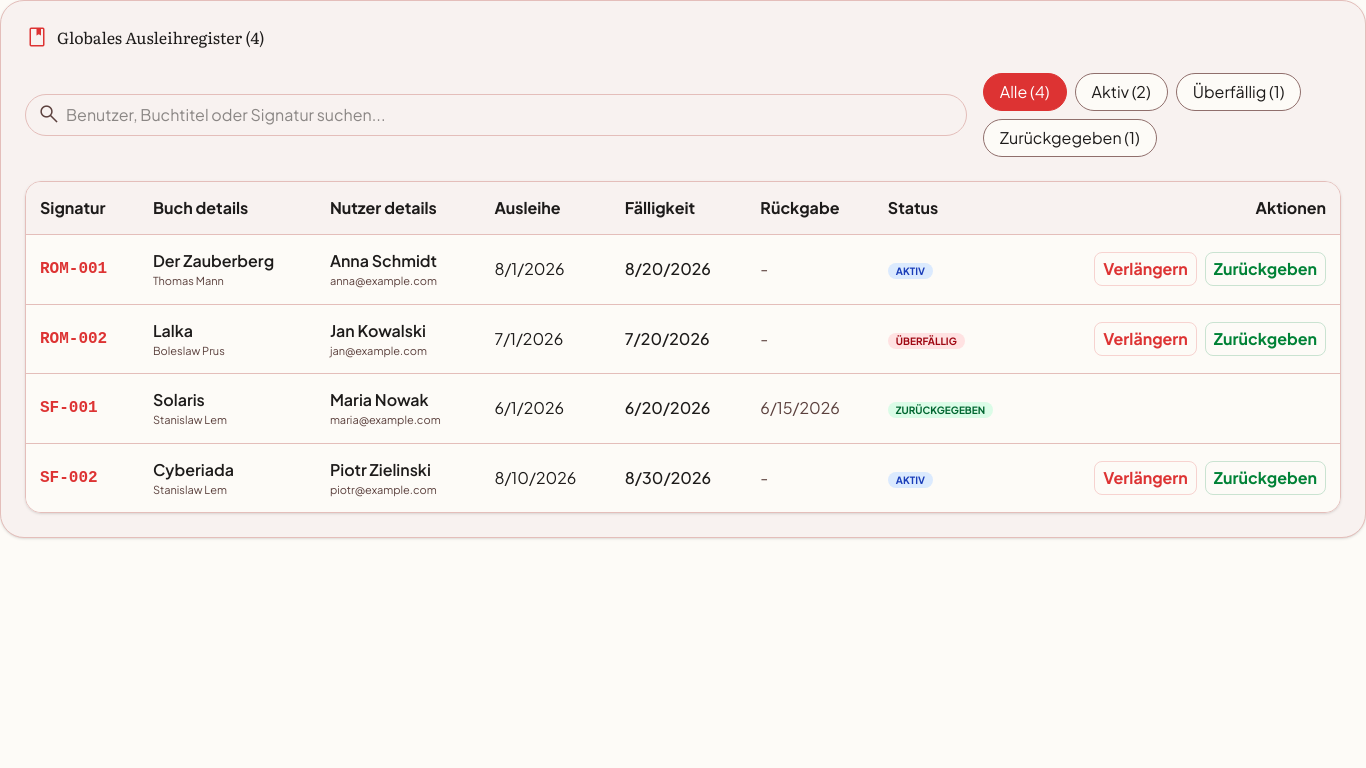
Test: AdminLoans Component (PR #69 verification) › filters loan list by search query (user name, email, book title, signature)
The width and height of the screenshot is (1366, 768).
Check: the text "Der Zauberberg" is shown, box [153, 250, 274, 271]
// Search by title
Type "Zauberberg" into the field.
click(496, 115); type("Zauberberg")  # box [25, 94, 967, 136]
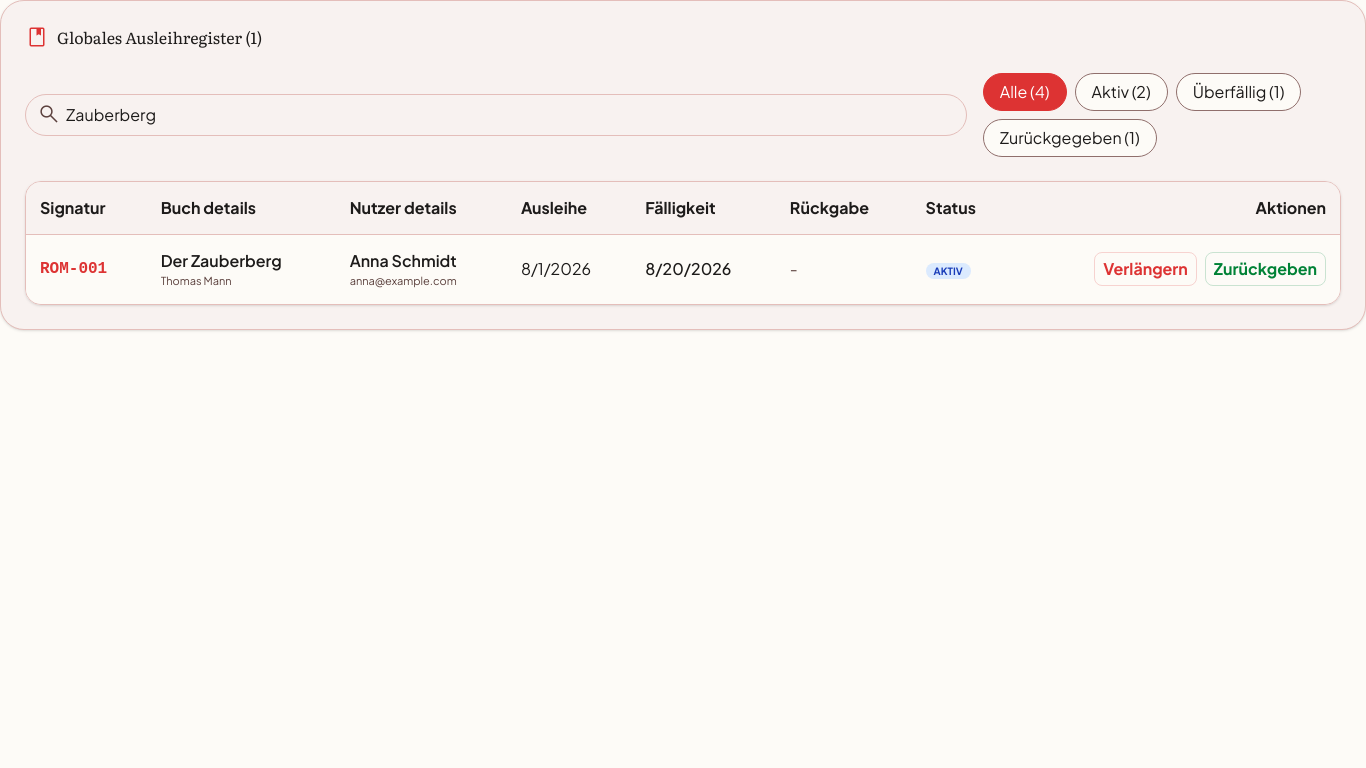
Check: the text "Der Zauberberg" is shown, box [161, 250, 282, 271]
Check: the text "Lalka" is gone
// Search by user email
Replace the text in the field with "jan@example.com" at (496, 115), box [25, 94, 967, 136]
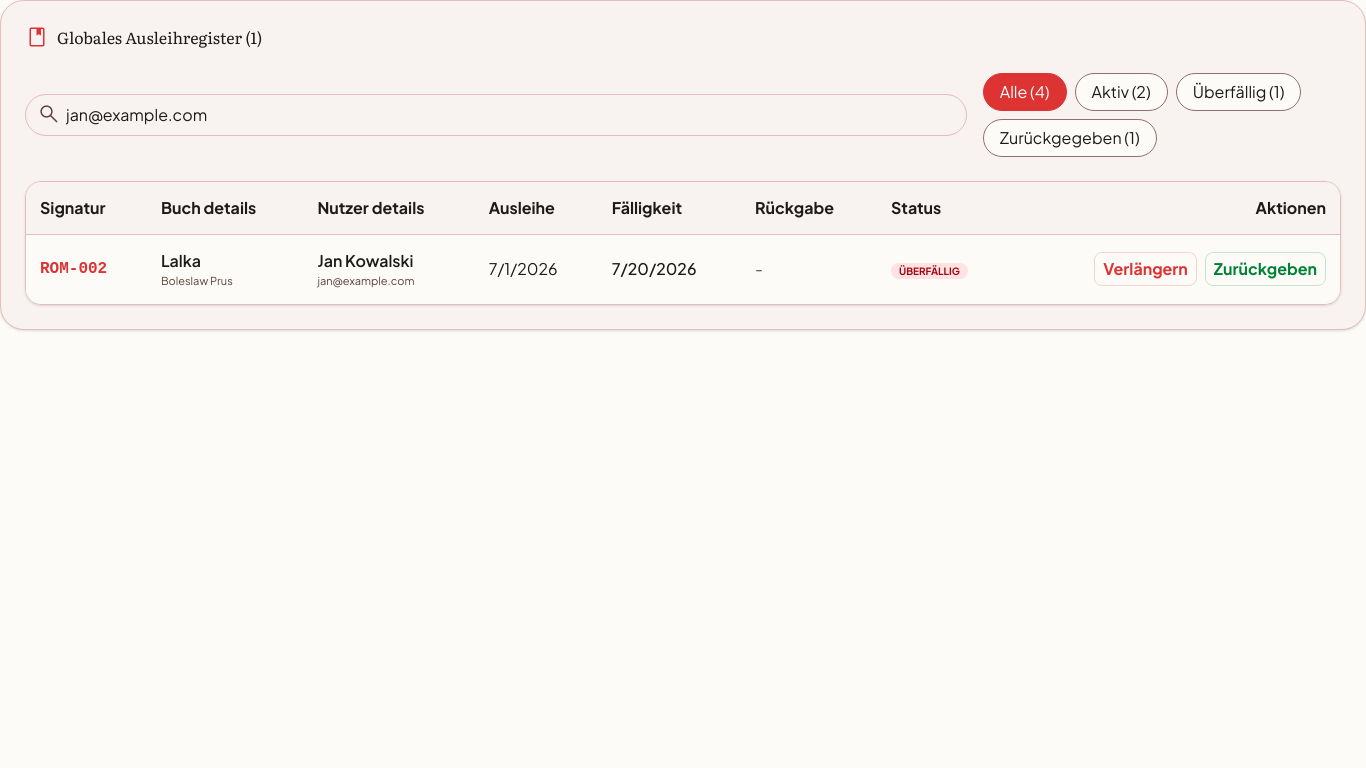
Check: the text "Lalka" is shown, box [161, 250, 201, 271]
Check: the text "Der Zauberberg" is gone
// Search by signature
Replace the text in the field with "SF-001" at (496, 115), box [25, 94, 967, 136]
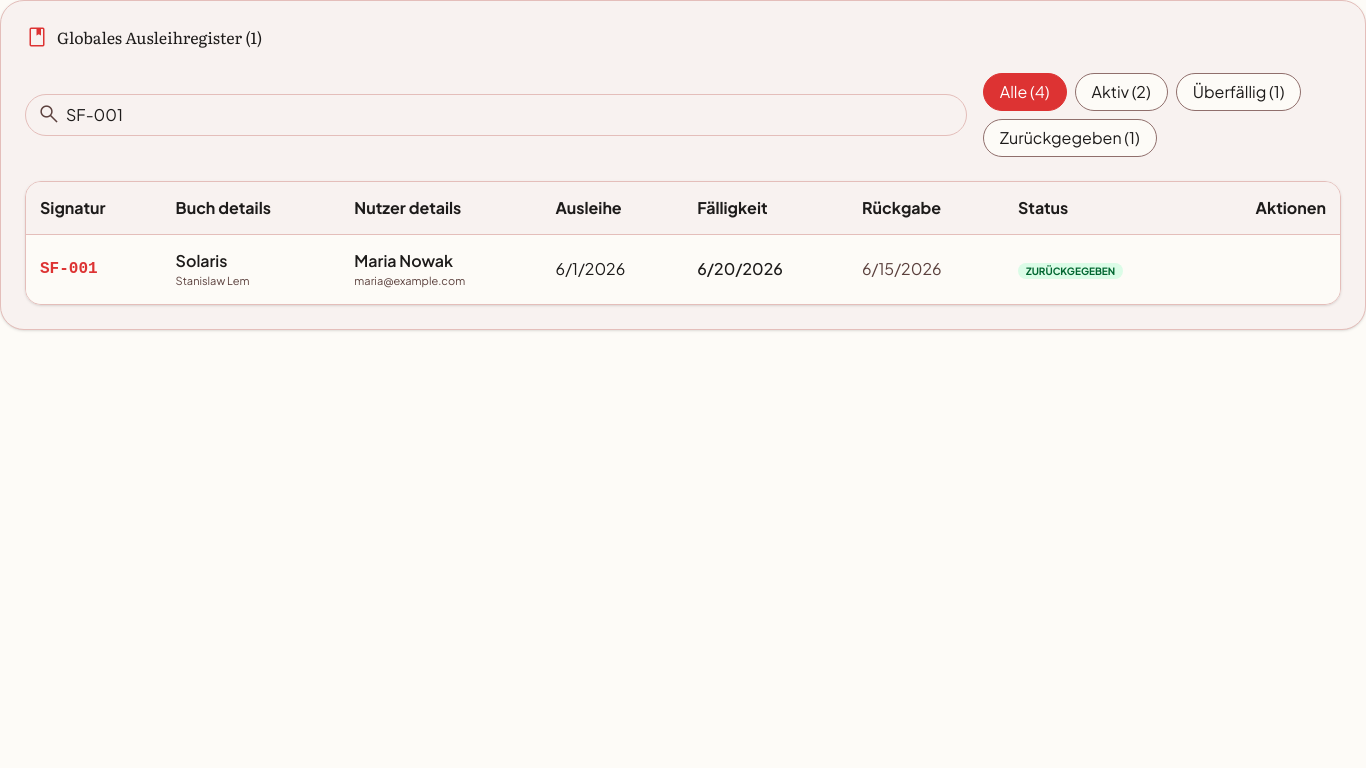
Check: the text "Der Zauberberg" is not shown
Check: the text "Solaris" is shown, box [176, 250, 228, 271]
